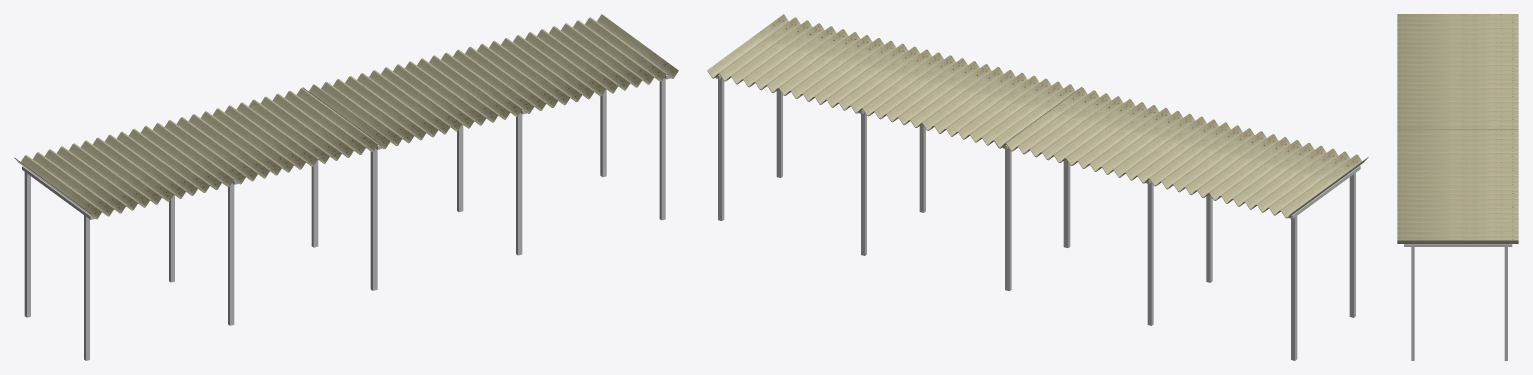
File: raincover02b.fbx
3 views of the same model, side by side, from view 1: azimuth 30°, elevation 25°; view 2: azimuth 150°, elevation 25°; view 3: azimuth 270°, elevation 25° (orthographic). The views are drawn at different scales.
Parts seen in each view (by area): view 1: raincover02b; view 2: raincover02b; view 3: raincover02b.
Part boxes in pixels (<box>): raincover02b: <box>14,14,678,360</box>; raincover02b: <box>707,14,1368,360</box>; raincover02b: <box>1397,14,1518,360</box>.
Size of the model in its own units: 1709 by 430 by 388.
